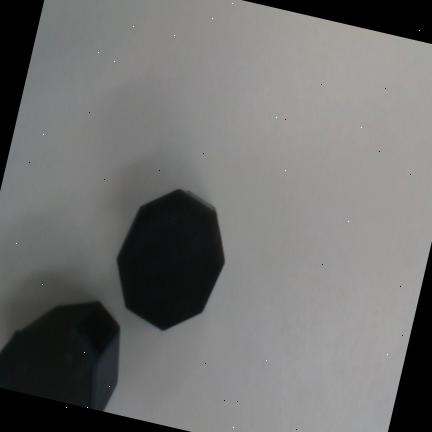Prisma_hexagonal: (116, 189, 226, 332), (0, 302, 121, 411)
